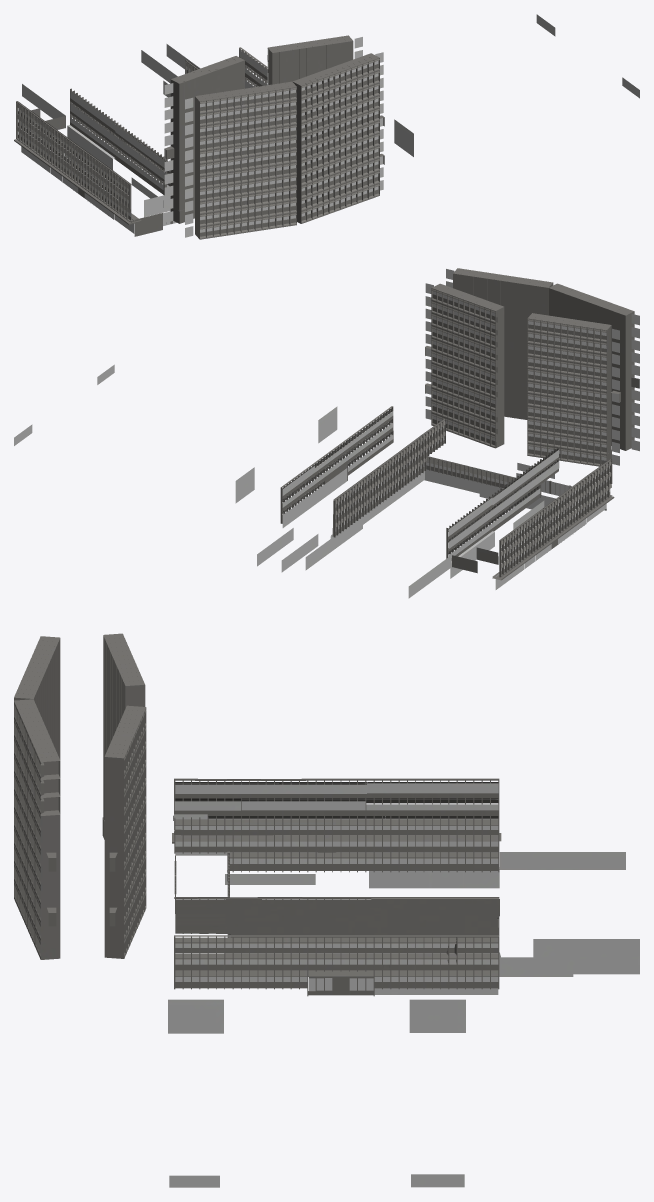
The model's file is frame raw 13.glb.
The picture shows the model from 3 angles, top to bottom: view 1: azimuth 30°, elevation 25°; view 2: azimuth 150°, elevation 25°; view 3: azimuth 270°, elevation 25°; orthographic projection. The views are drawn at different scales.
Visible parts, largest first — view 1: frame raw.005; view 2: frame raw.005; view 3: frame raw.005.
Part boxes in pixels (x1=…): frame raw.005: x1=14, y1=14, x2=639, y2=239; frame raw.005: x1=14, y1=268, x2=639, y2=598; frame raw.005: x1=14, y1=633, x2=639, y2=1187.
Size of the model in its own units: 11.03 by 3.44 by 8.18.
Materials: 1 (1 with a texture image).
